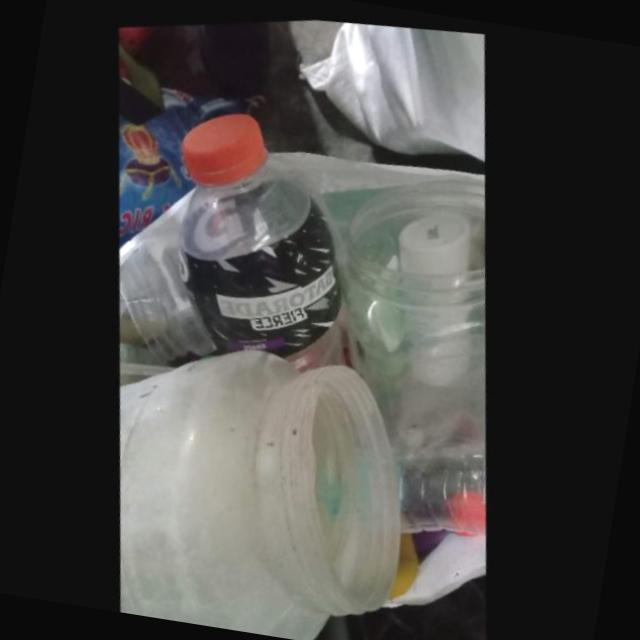chai_nhua_pet: (183, 108, 348, 368), (401, 441, 487, 534)
hop_nhua: (121, 343, 402, 640)
